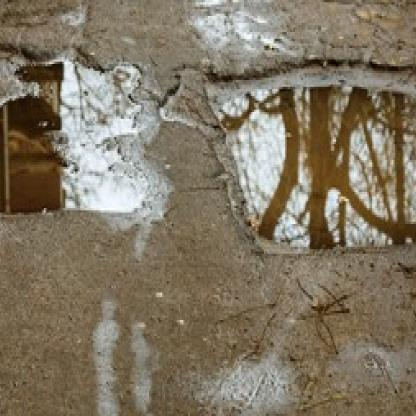pothole: (205, 50, 416, 254), (0, 48, 156, 235)
